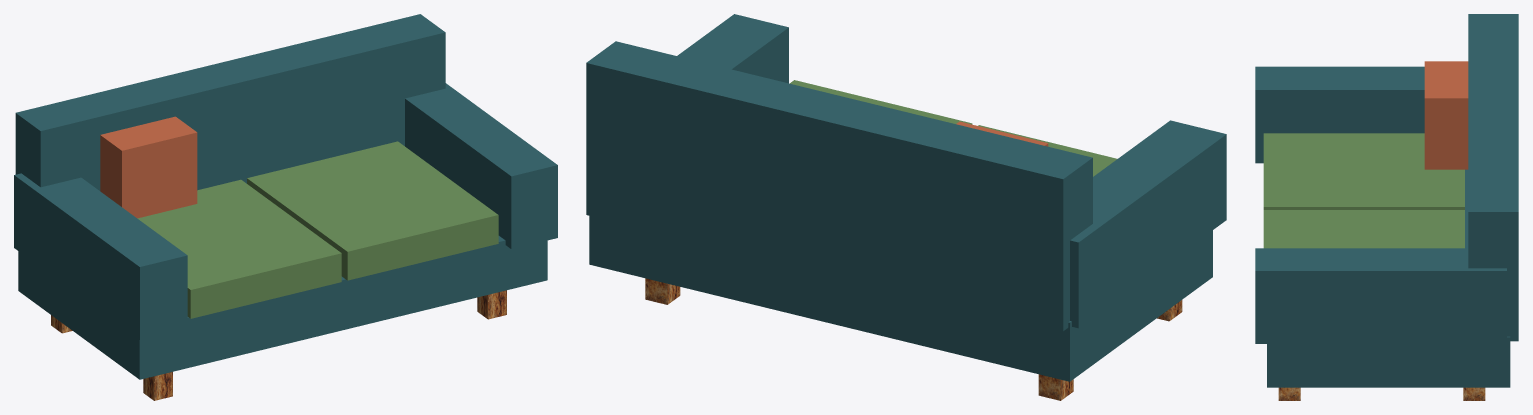
Rendered from sofa.obj.
3 views of the same model, side by side, from view 1: azimuth 30°, elevation 25°; view 2: azimuth 150°, elevation 25°; view 3: azimuth 270°, elevation 25° (orthographic). The views are drawn at different scales.
Parts seen in each view (by area): view 1: sofa; view 2: sofa; view 3: sofa.
Part boxes in pixels (x1,y1,x2,y2): sofa: [14, 14, 557, 400]; sofa: [586, 14, 1226, 400]; sofa: [1255, 14, 1518, 400].
Bounding box in the file's own units: 2.88 × 1.35 × 1.57.
